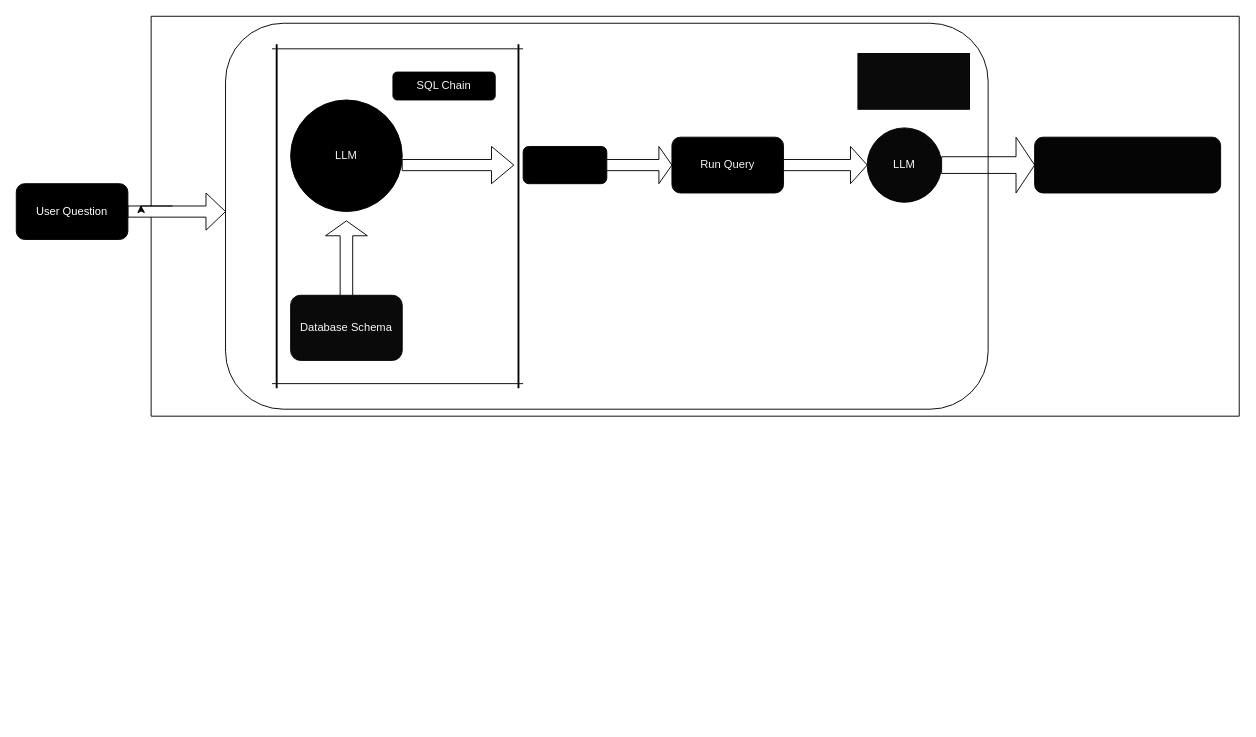
This 1256x737 diagram has some shape labels left out. The centre of each missing label's shape, as x and y in pixels:
Full Chain: point (913, 81)
Natural Language Answer: point (1127, 164)
SQL Query: point (564, 165)
